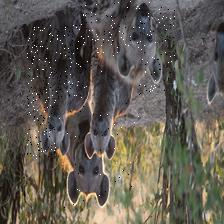hyena: (80, 0, 175, 95), (57, 98, 136, 208), (27, 24, 88, 159), (85, 52, 140, 158)
